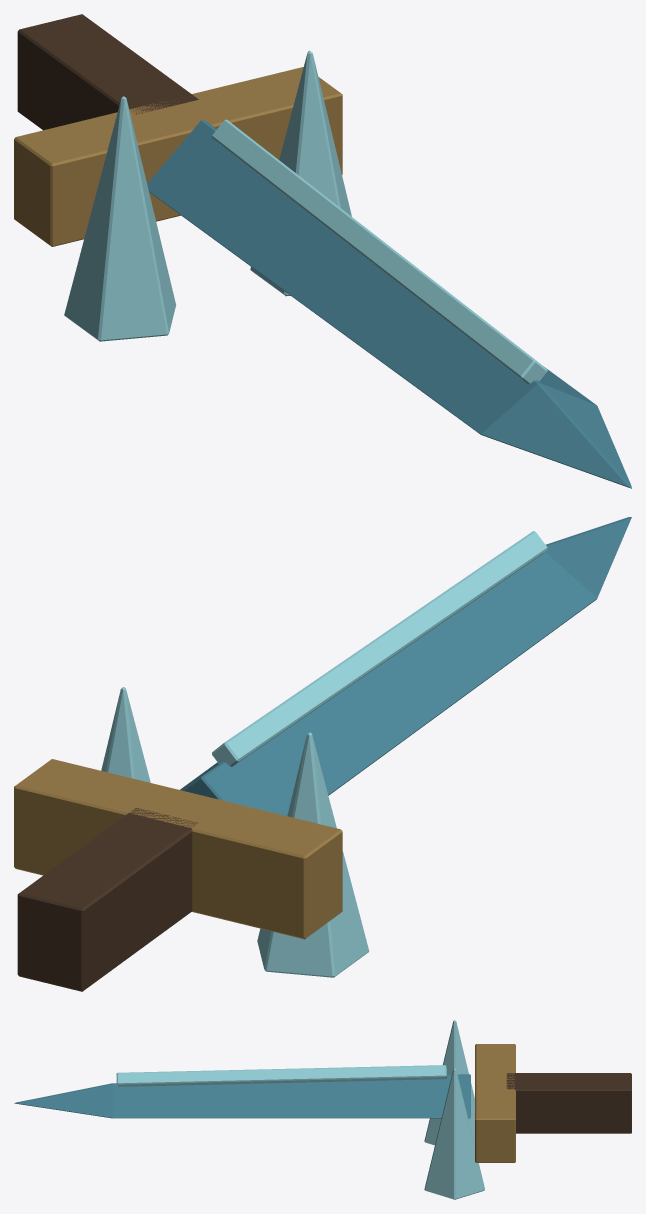
File: warrior_ice.glb
3 renders of one model, top to bottom at view 1: azimuth 30°, elevation 25°; view 2: azimuth 150°, elevation 25°; view 3: azimuth 270°, elevation 25°, orthographic. The views are drawn at different scales.
Visible parts, largest first — view 1: weapon.011; view 2: weapon.011; view 3: weapon.011.
Boxes of the visible parts, x1,y1,x2,y2 form: weapon.011: [14, 14, 631, 488]; weapon.011: [14, 517, 631, 991]; weapon.011: [14, 1020, 631, 1199].
Size of the model in its own units: 0.44 by 0.32 by 1.52.
